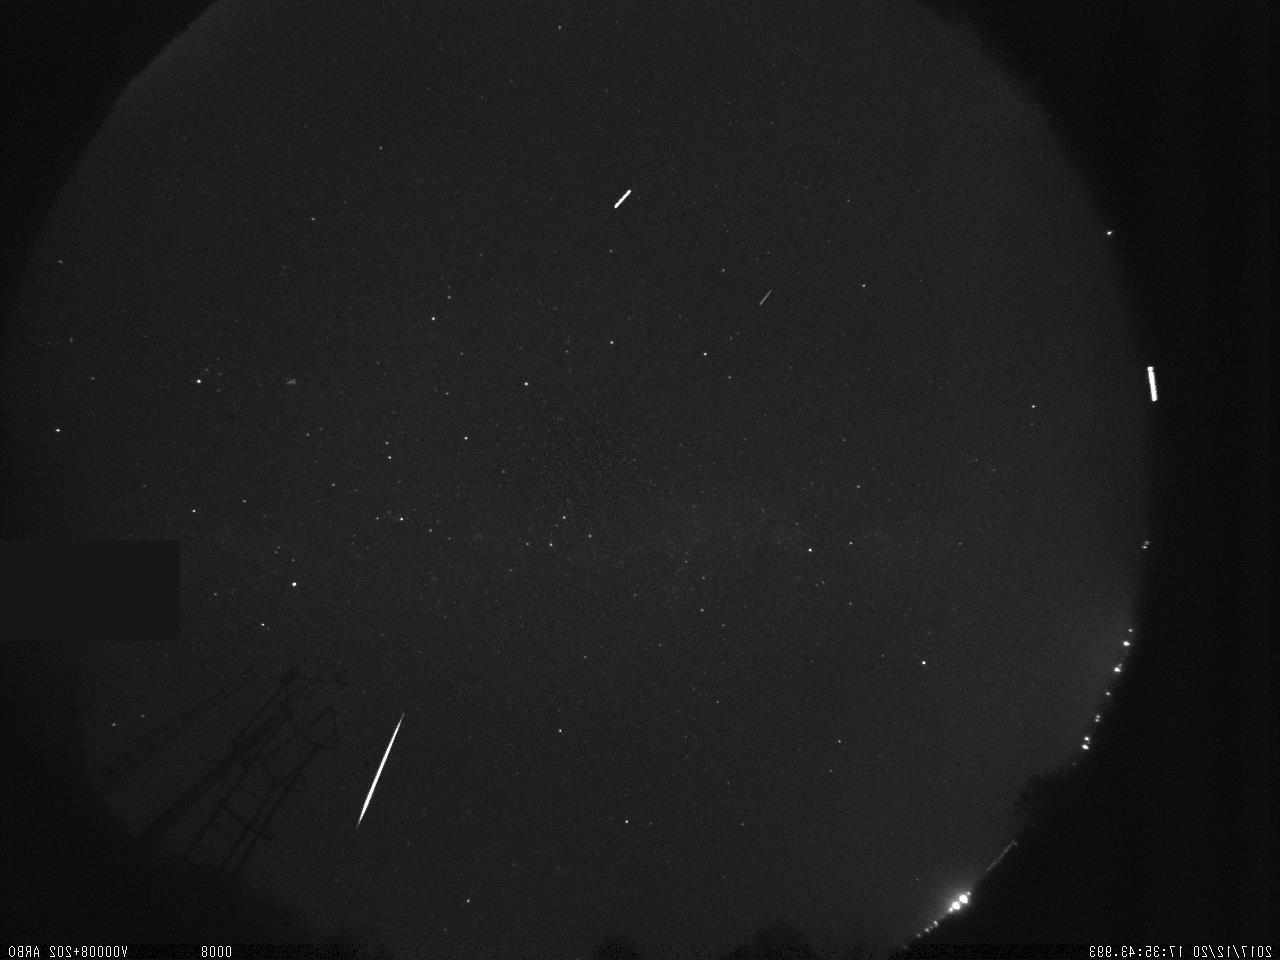meteor: (346, 696, 410, 837)
satelite: (607, 183, 635, 214), (755, 288, 776, 310)
